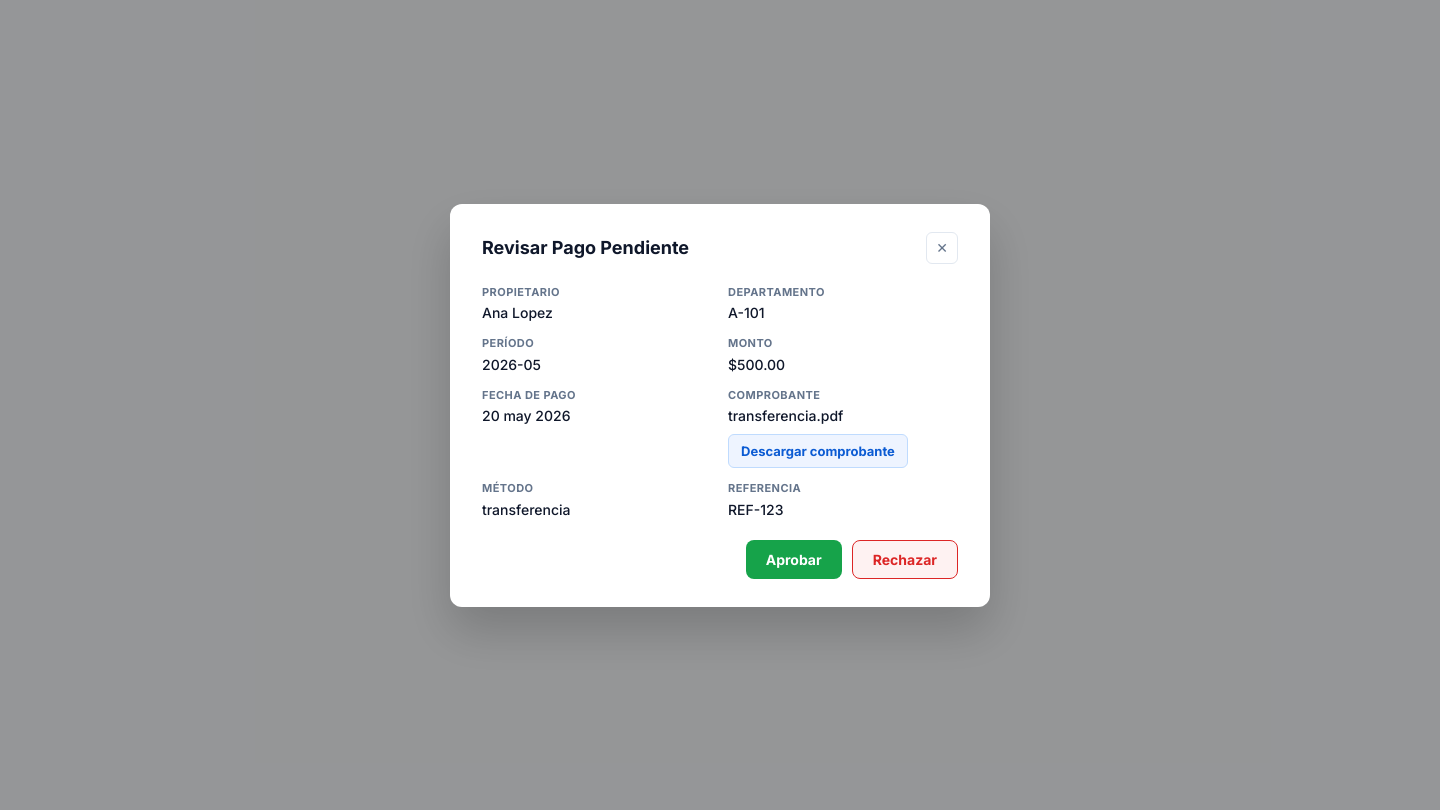
it: PaymentReviewModal › shows validation when rejecting without reason
Click the button "Rechazar": (905, 559) [852,540,958,578]
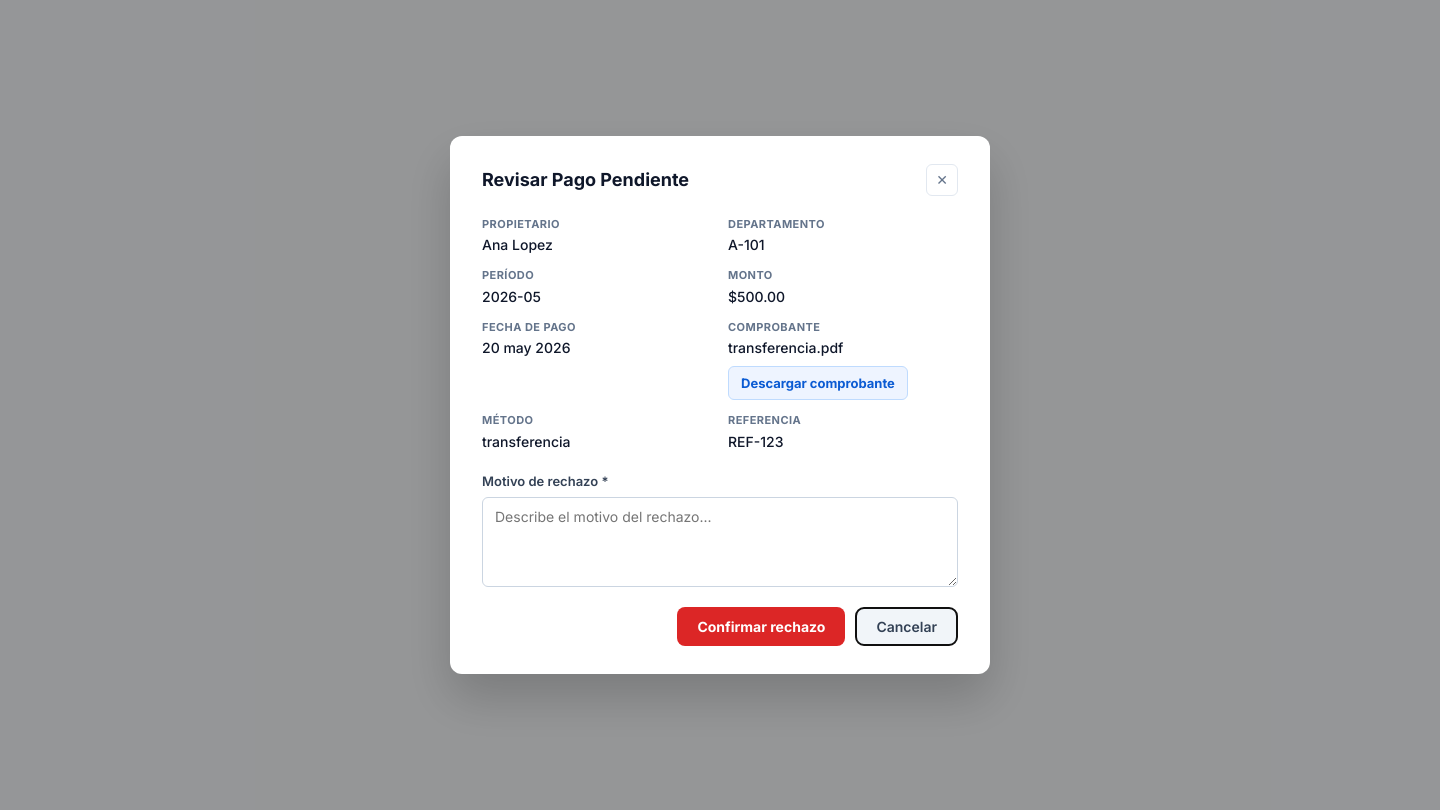
Click the button "Confirmar rechazo": (761, 627) [677,607,845,646]
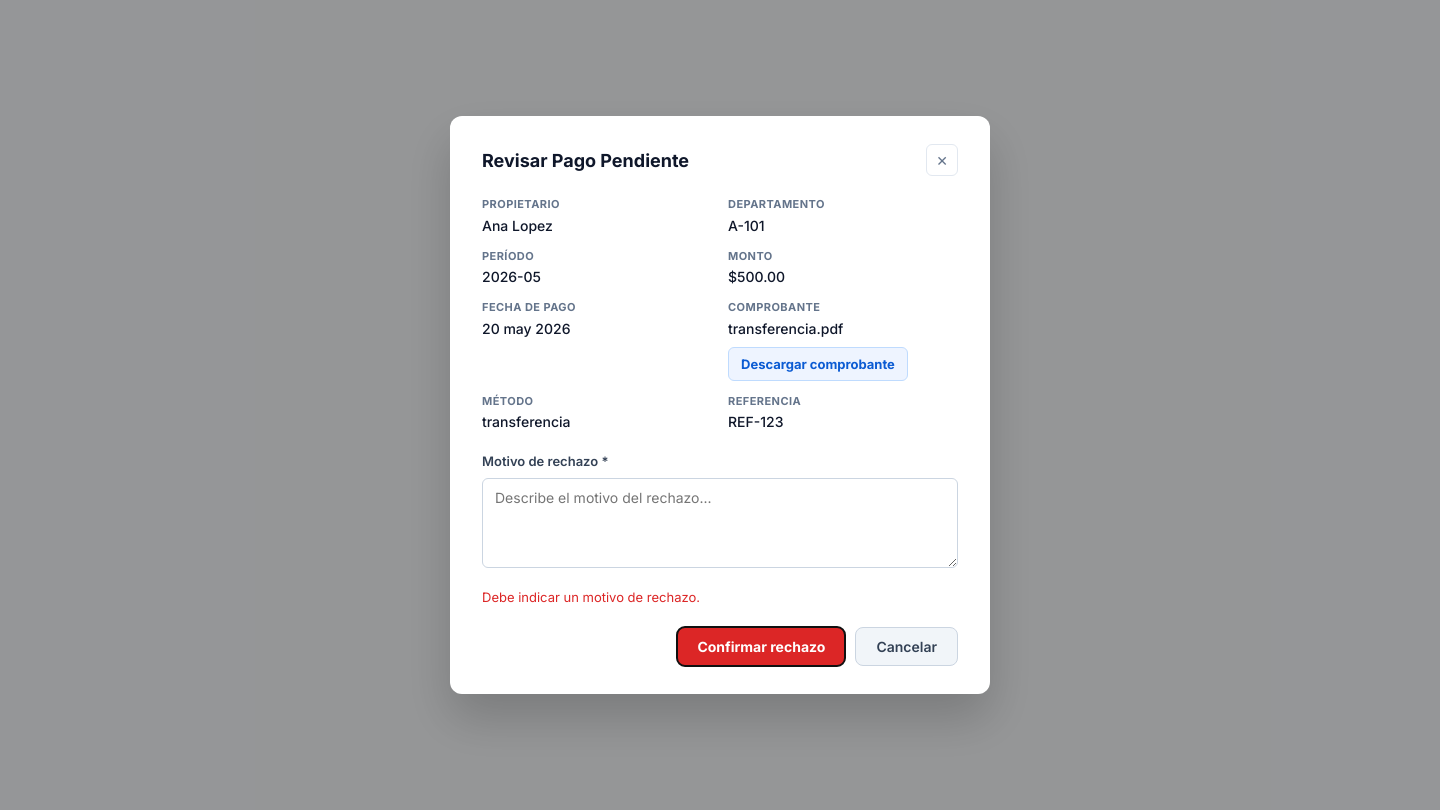
Check: the text "Debe indicar un motivo de rechazo." is shown, box [482,588,700,604]
